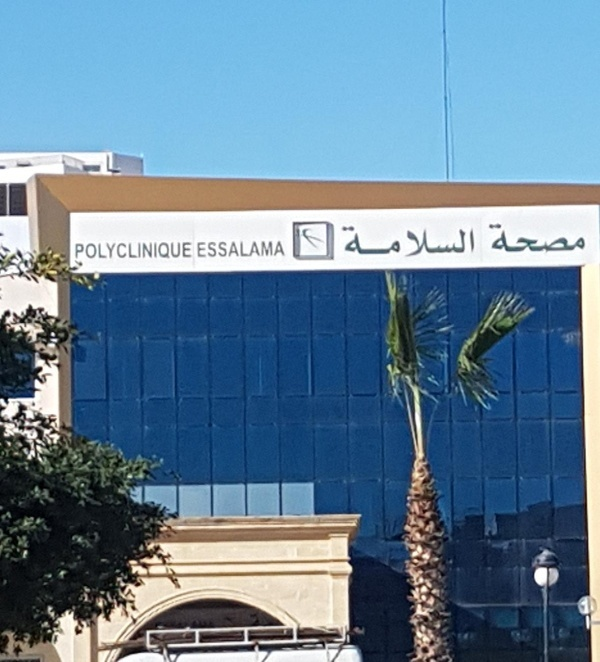text: (353, 226, 368, 258), (369, 226, 384, 258), (385, 226, 400, 258), (401, 226, 416, 258), (417, 226, 432, 258), (433, 226, 448, 258), (449, 226, 464, 258), (497, 224, 512, 254), (513, 224, 528, 254), (529, 224, 544, 254), (545, 224, 560, 254), (561, 224, 576, 254), (341, 226, 352, 258), (465, 226, 475, 258), (177, 241, 193, 261), (81, 241, 96, 261), (97, 241, 112, 261), (113, 241, 128, 261), (129, 241, 144, 261), (145, 241, 160, 261), (161, 241, 176, 261), (209, 240, 224, 259), (225, 240, 240, 259), (241, 240, 256, 259), (257, 240, 272, 259), (577, 224, 586, 254), (273, 240, 286, 259), (489, 224, 496, 254), (197, 240, 208, 259), (76, 241, 80, 261)
